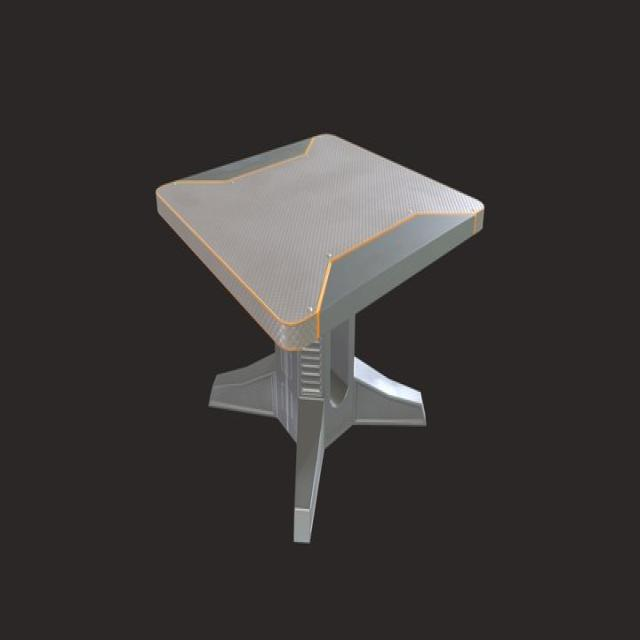table: (156, 133, 486, 540)
